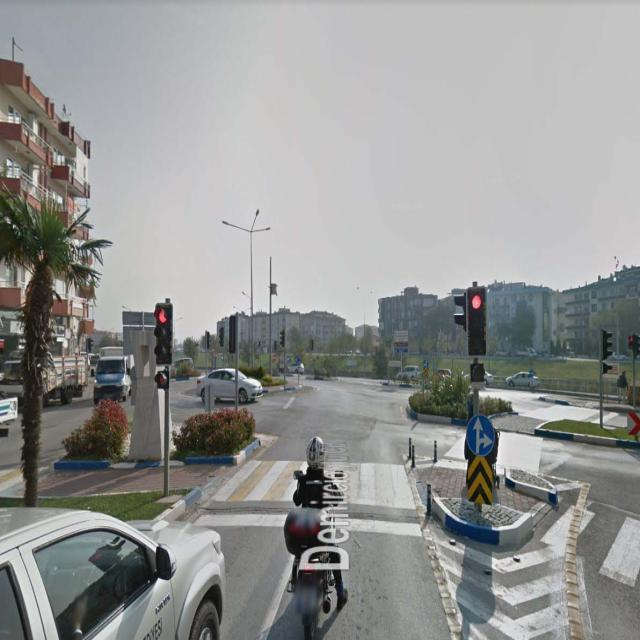ilerisag: (467, 414, 493, 457)
kirmizi: (468, 288, 488, 354), (155, 305, 170, 365)
